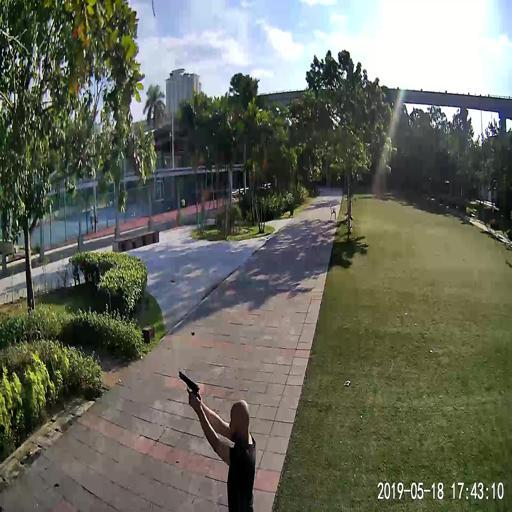Handgun: (176, 368, 198, 396)
